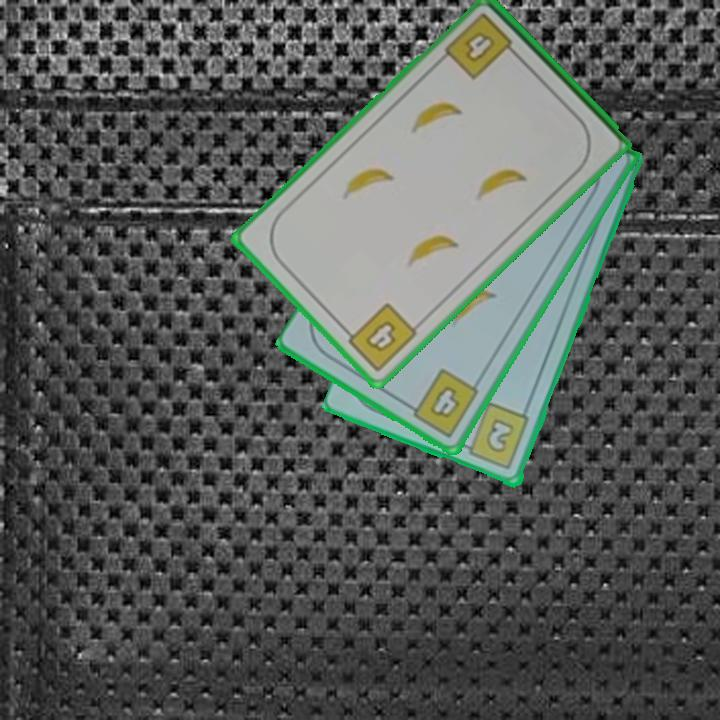2b: (457, 400, 533, 473)
4b: (338, 299, 420, 375), (402, 365, 482, 441), (441, 9, 522, 83)
